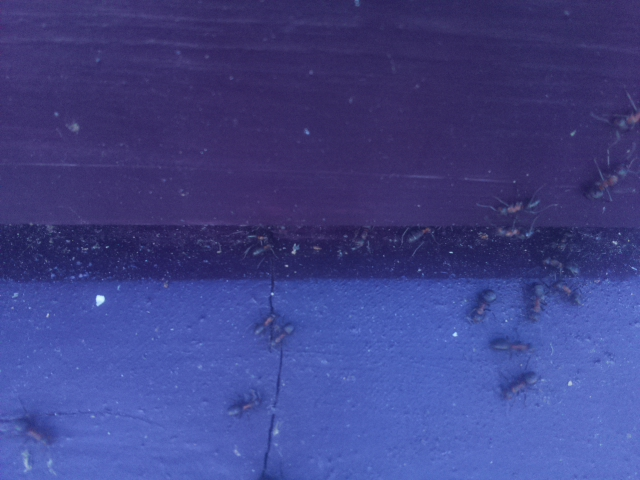ant: (581, 153, 636, 206), (599, 99, 640, 141), (498, 363, 544, 400), (228, 385, 260, 423), (486, 334, 539, 356), (469, 284, 495, 327), (556, 279, 584, 312), (528, 280, 548, 324), (270, 319, 294, 351)
